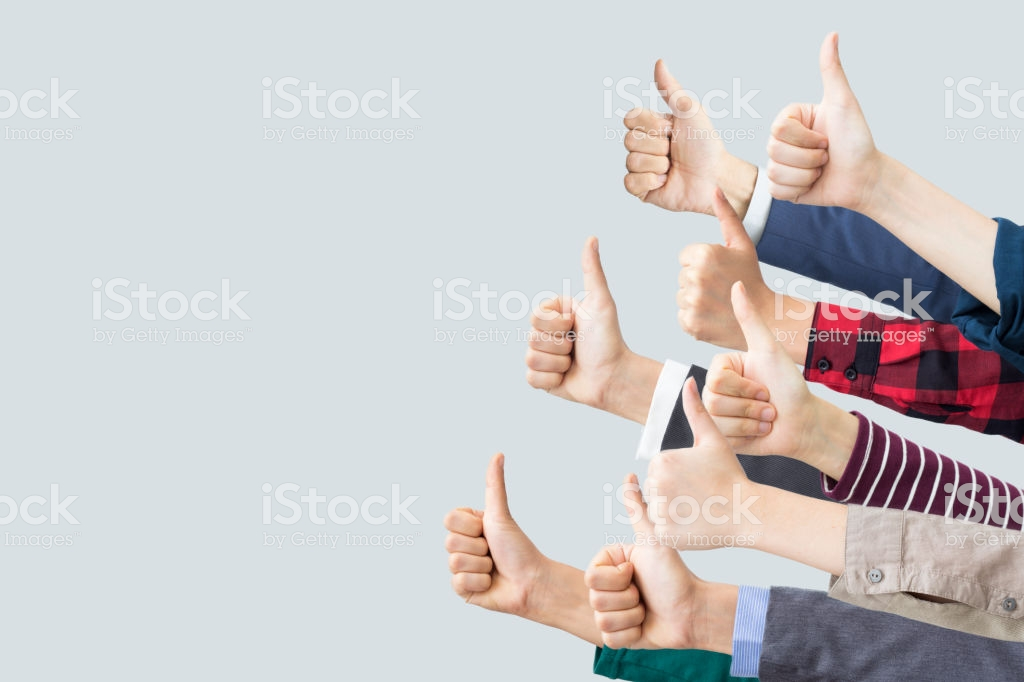thumbsup: (582, 468, 679, 653), (763, 30, 863, 207), (521, 230, 621, 403), (701, 280, 792, 457), (643, 374, 729, 552), (443, 451, 531, 617), (620, 57, 703, 215), (676, 185, 746, 349)
